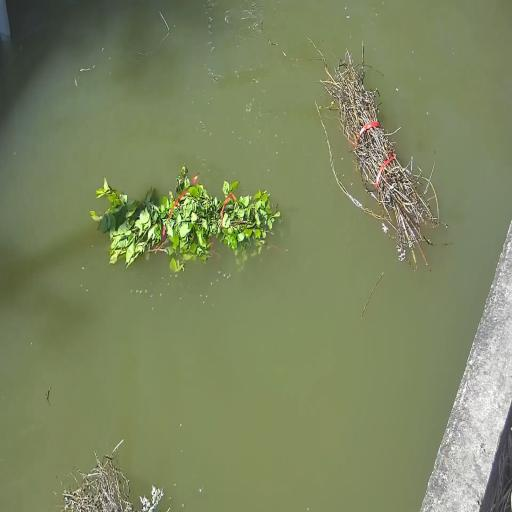twig: (315, 44, 440, 267), (90, 165, 281, 272), (63, 441, 139, 512)
